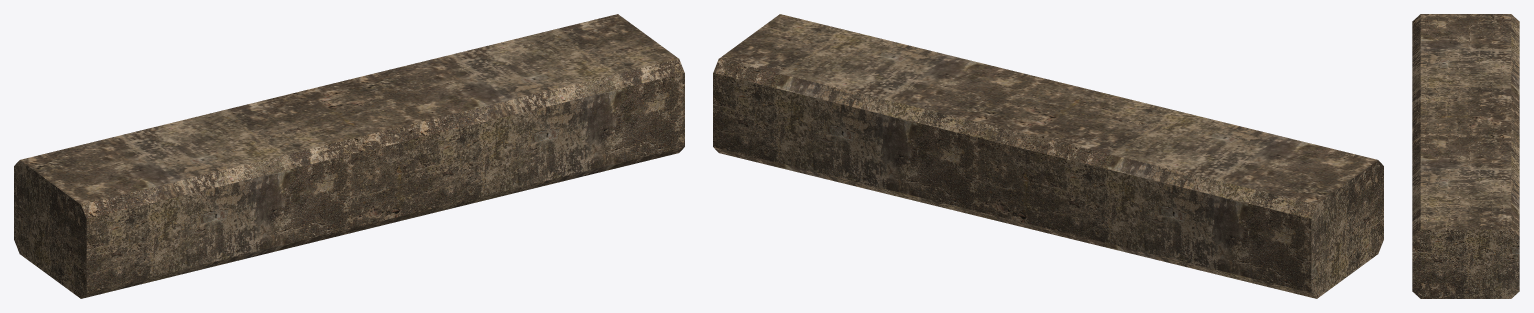
Rendered from materials_5_stonestick_short_3.fbx.
3 renders of one model, left to right at view 1: azimuth 30°, elevation 25°; view 2: azimuth 150°, elevation 25°; view 3: azimuth 270°, elevation 25°, orthographic. The views are drawn at different scales.
Parts seen in each view (by area): view 1: materials_5_stonestick_short_3; view 2: materials_5_stonestick_short_3; view 3: materials_5_stonestick_short_3.
Boxes of the visible parts, x1,y1,x2,y2 form: materials_5_stonestick_short_3: [14, 14, 684, 298]; materials_5_stonestick_short_3: [713, 14, 1383, 298]; materials_5_stonestick_short_3: [1412, 14, 1519, 298].
Size of the model in its own units: 110 by 16.5 by 23.03.
